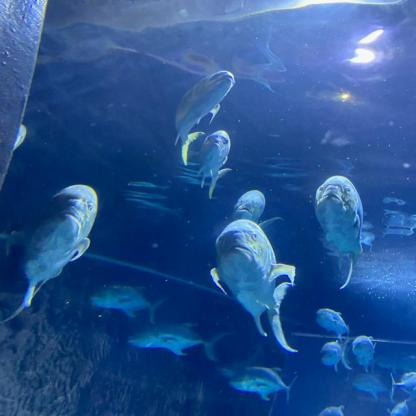fish: (212, 219, 298, 352), (17, 184, 98, 306), (174, 70, 235, 166), (316, 176, 364, 288), (129, 324, 234, 360), (92, 284, 165, 323), (198, 131, 232, 199), (232, 368, 298, 401), (232, 190, 280, 231), (319, 338, 350, 372), (316, 309, 349, 340), (353, 374, 395, 398), (352, 336, 377, 372), (389, 372, 415, 404), (313, 404, 355, 416), (388, 400, 412, 416)
